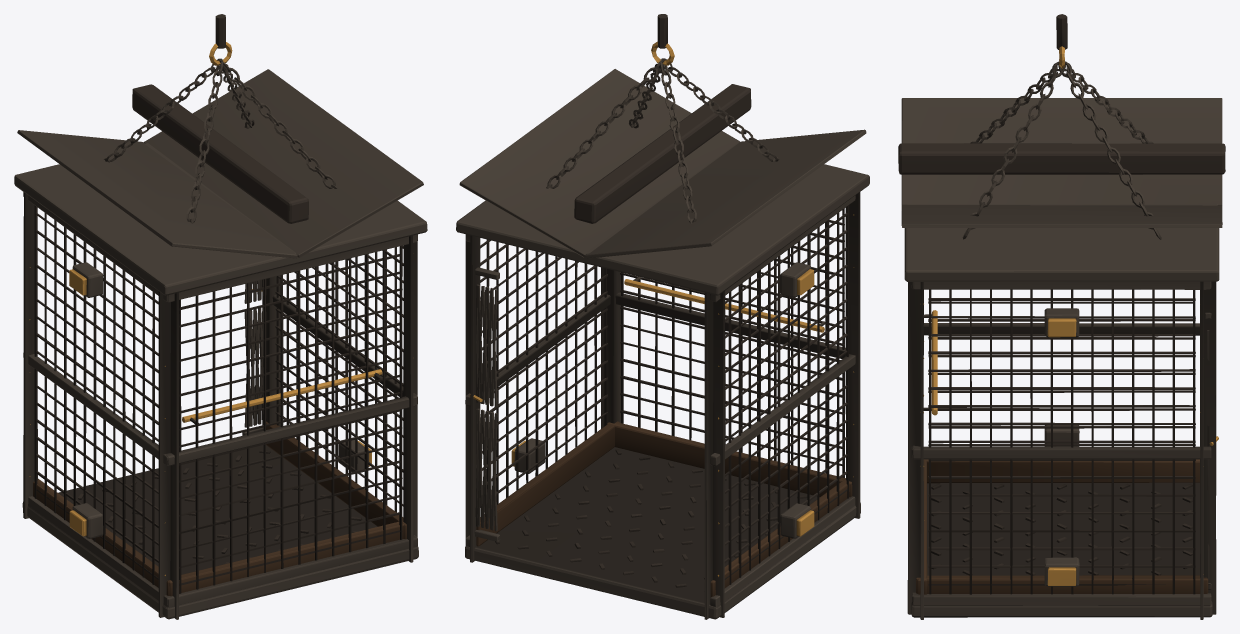
File: cage.glb
3 renders of one model, left to right at view 1: azimuth 30°, elevation 25°; view 2: azimuth 150°, elevation 25°; view 3: azimuth 270°, elevation 25°, orthographic. The views are drawn at different scales.
Parts seen in each view (by area): view 1: Cage; view 2: Cage; view 3: Cage.
Boxes of the visible parts, <box> form: Cage: <box>14,14,427,619</box>; Cage: <box>456,14,869,619</box>; Cage: <box>898,14,1225,619</box>.
Size of the model in its own units: 2.2 by 3.78 by 2.08.
